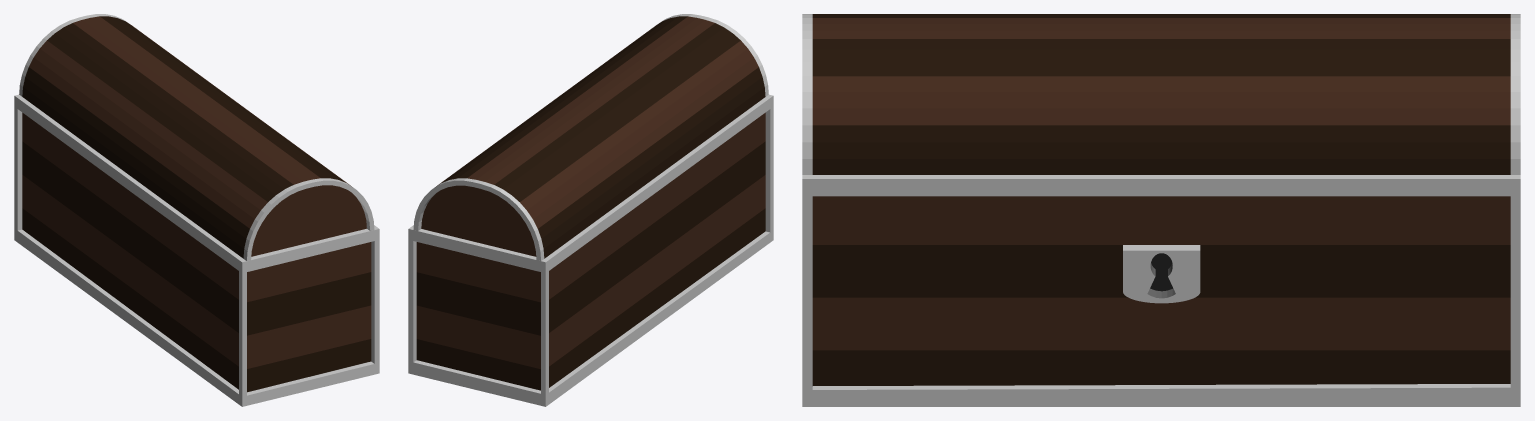
Rendered from TesoroUnity.fbx.
3 renders of one model, left to right at view 1: azimuth 30°, elevation 25°; view 2: azimuth 150°, elevation 25°; view 3: azimuth 270°, elevation 25°, orthographic. The views are drawn at different scales.
Parts seen in each view (by area): view 1: Cube; view 2: Cube; view 3: Cube.
Part boxes in pixels (<box>): Cube: <box>14,14,379,406</box>; Cube: <box>408,14,773,406</box>; Cube: <box>802,14,1520,406</box>.
Size of the model in its own units: 109 by 155 by 309.
1 material, 1 textured.
